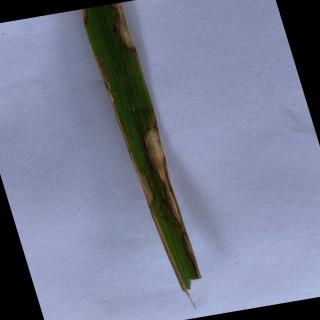Hawar-Daun: (142, 125, 205, 280), (130, 147, 153, 210), (114, 2, 136, 50), (82, 10, 92, 28)
